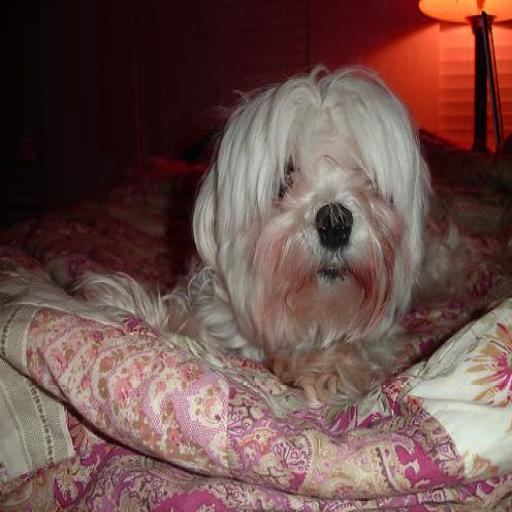dog_face: (212, 76, 434, 329)
